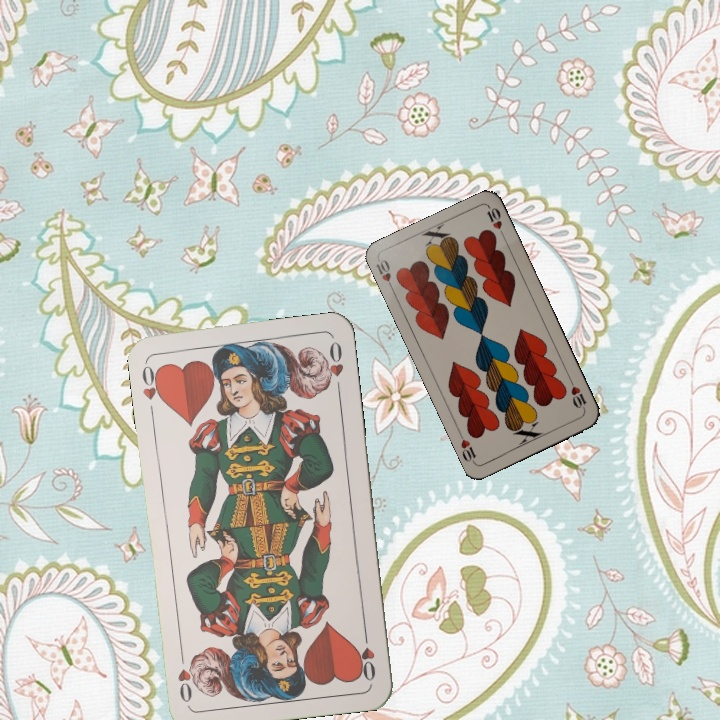H10: (372, 255, 397, 294), (565, 375, 589, 413)
HO: (355, 625, 378, 684), (138, 358, 166, 405)
